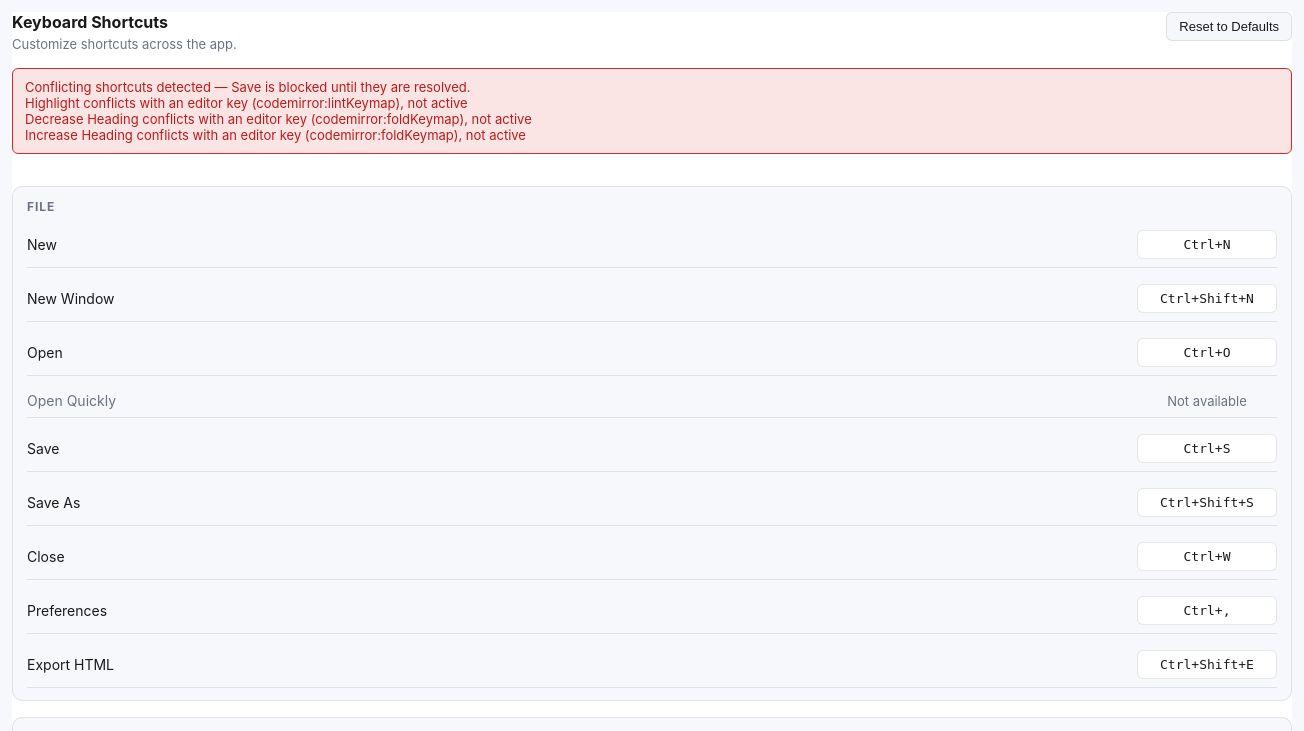
Test: D190-WI-7 the shortcut recorder owns the keys it is recording › g4 Escape while recording cancels the recording without recording Escape
expect the text "New Window" is shown: met, box [27,290,114,307]
Click the button "Ctrl+S" at (1207, 448), box [1137,434,1277,463]
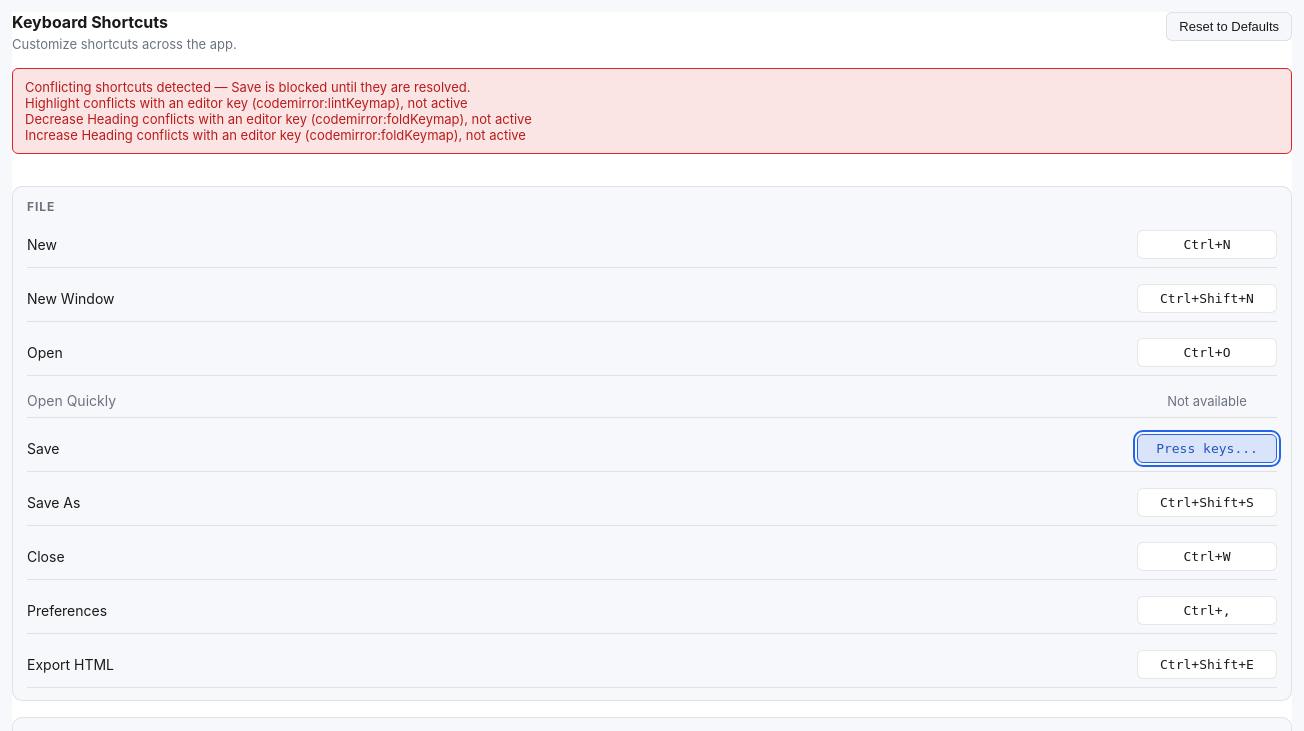
Press Escape
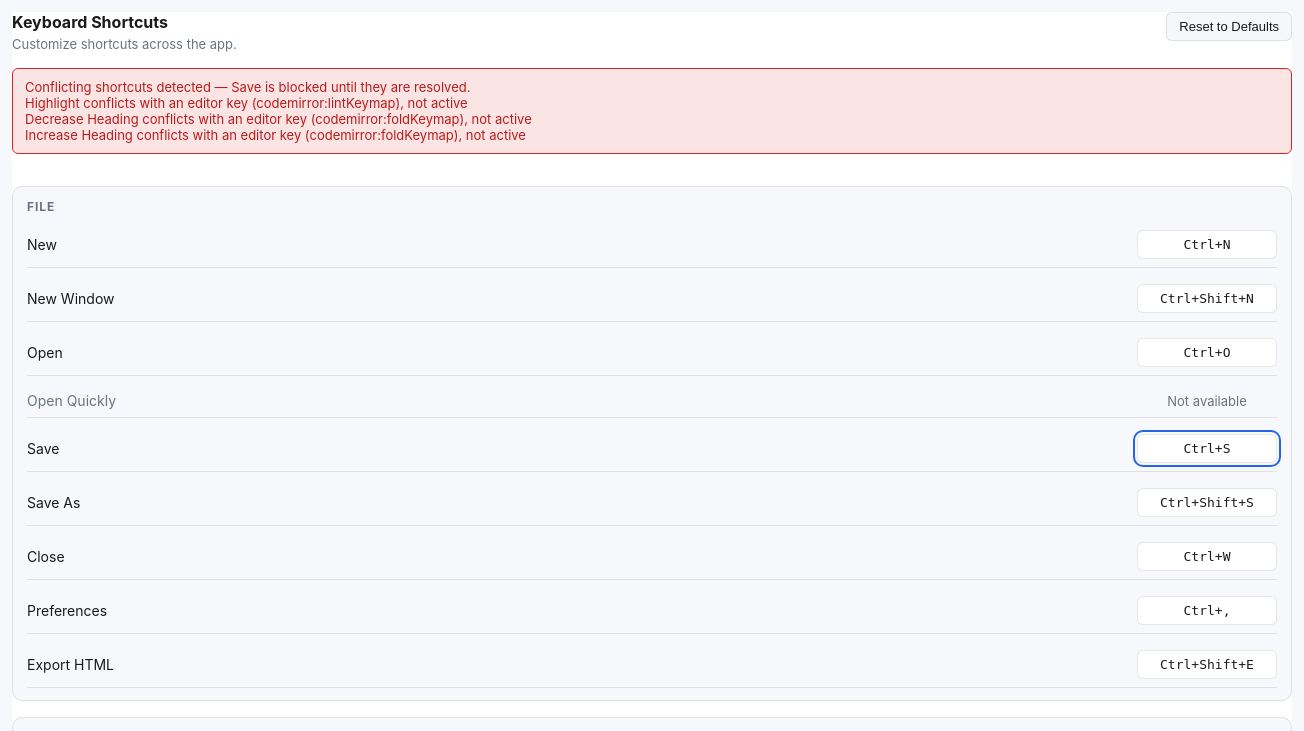
expect the button "Ctrl+S" is shown: met, box [1137,434,1277,463]
